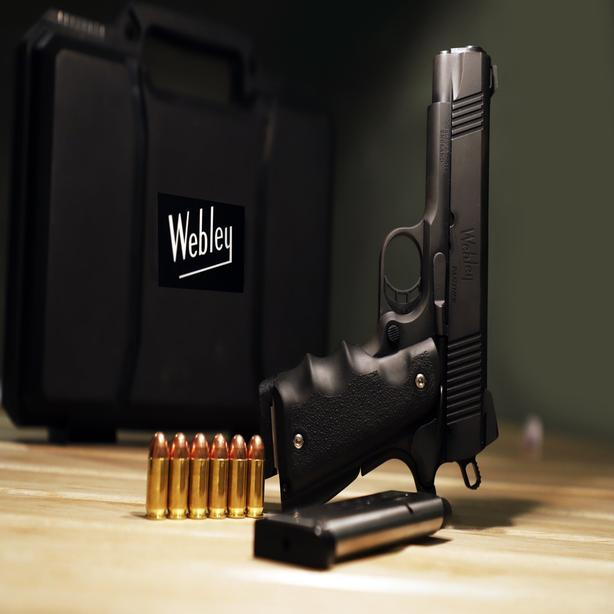Firearm: (215, 36, 577, 556)
